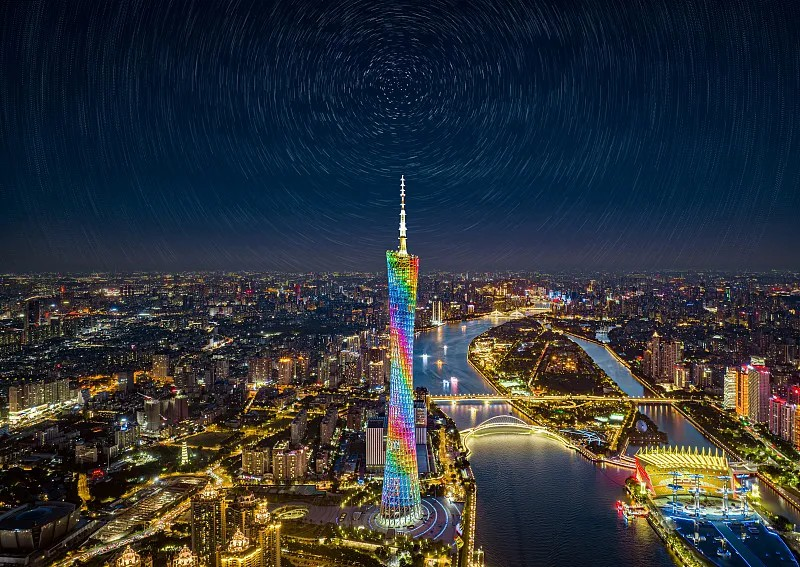Canton: (381, 174, 422, 528)
